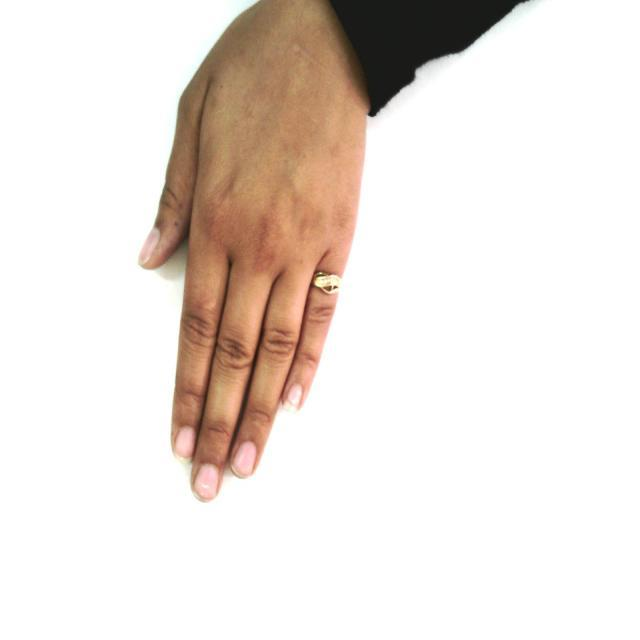Fingernail: (194, 464, 219, 500), (233, 443, 256, 476), (175, 427, 195, 460), (139, 229, 158, 261), (284, 383, 302, 411)
